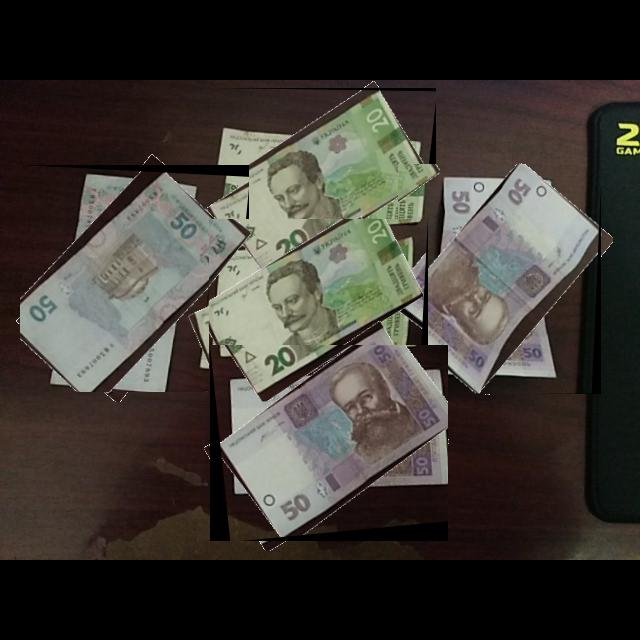20uah: (214, 91, 430, 282), (209, 219, 426, 395)
50uah: (20, 172, 244, 393), (398, 164, 600, 395), (219, 345, 449, 539)
